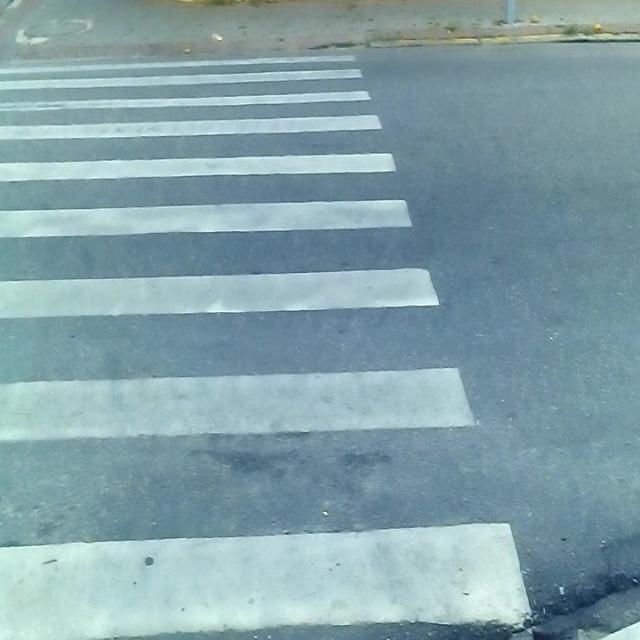crosswalk: (0, 50, 550, 640)
